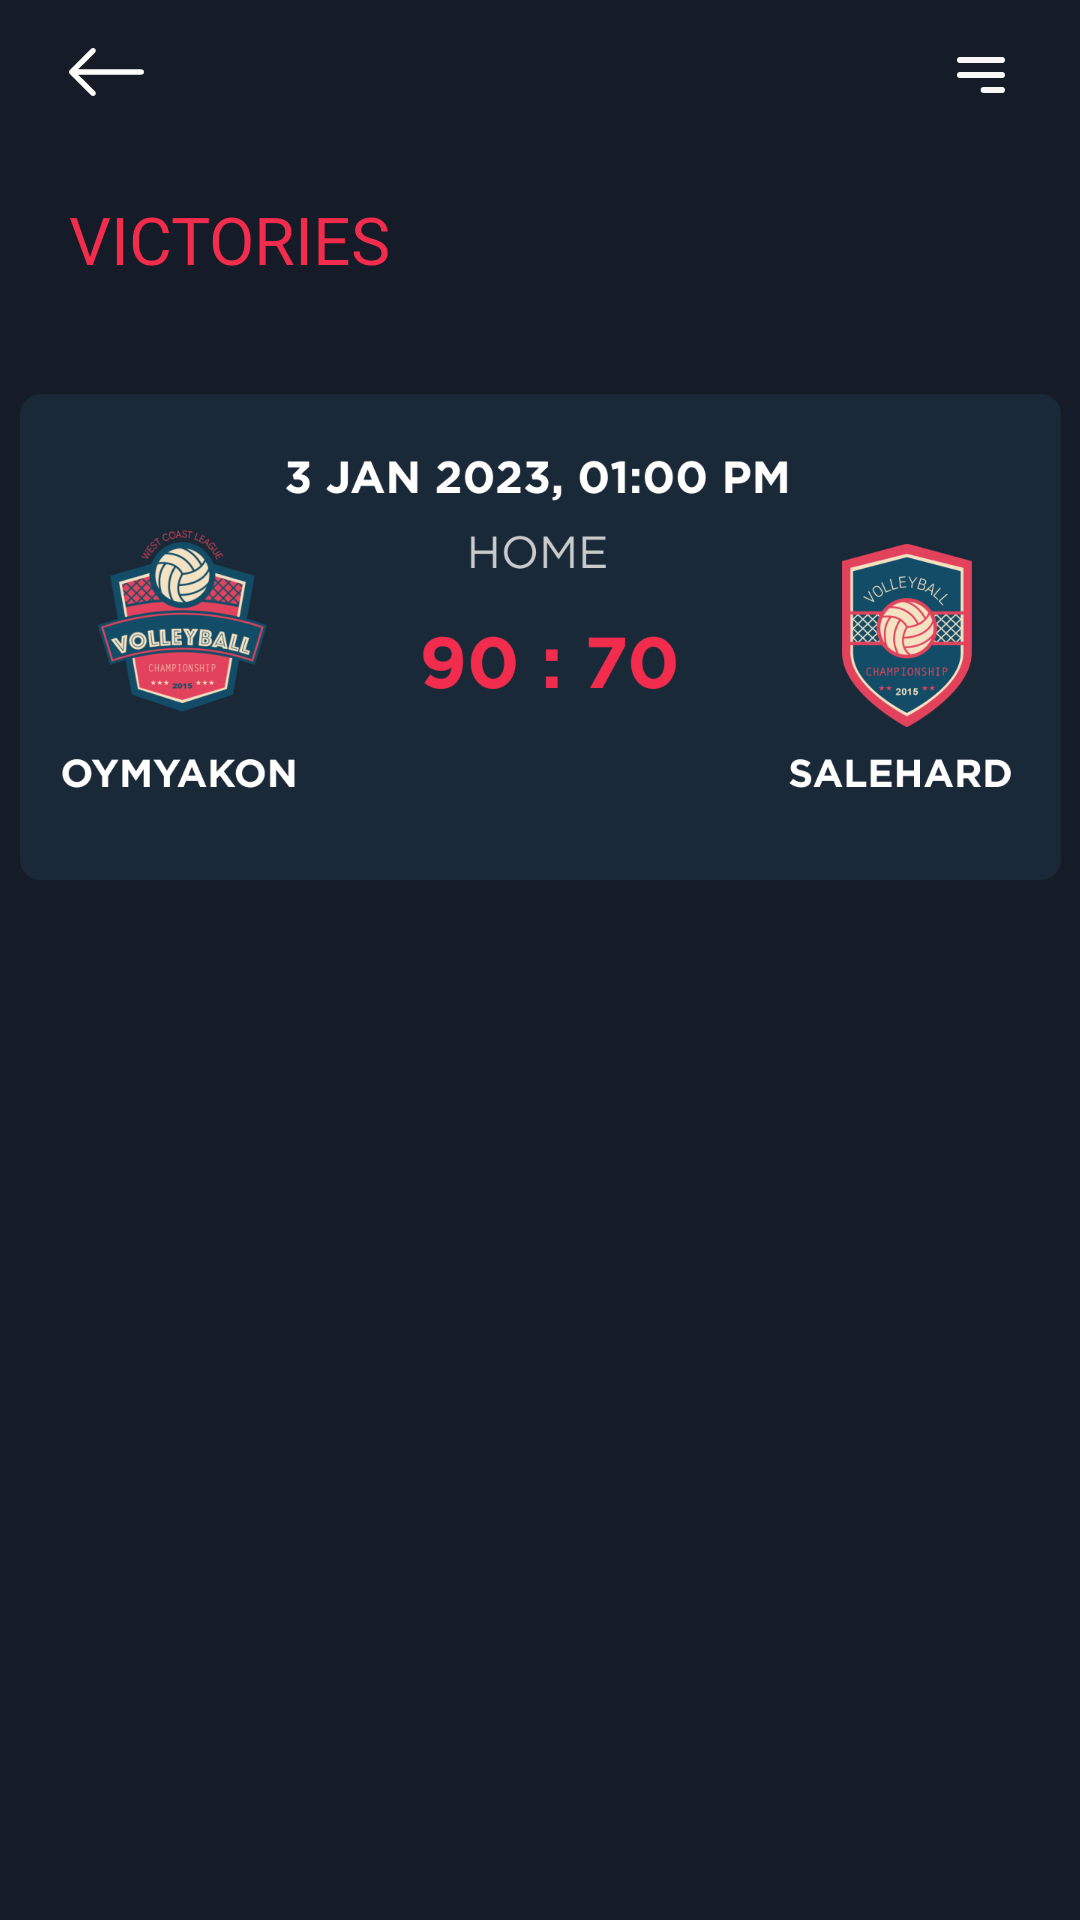

Icons on this 1080w x 1920h Android screen, each with its box as bbox(x1, y1, x2, y2):
back: bbox(69, 48, 144, 96)
